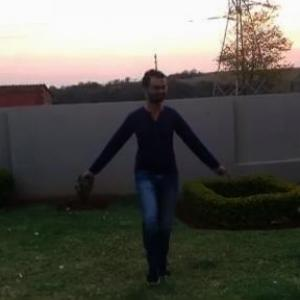land: (76, 70, 229, 283)
